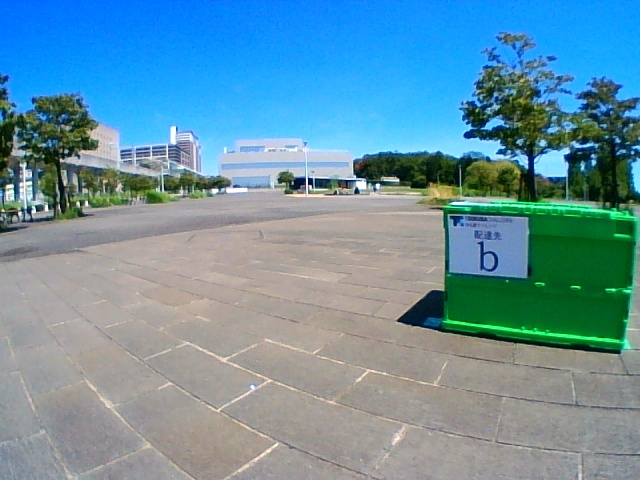green_box: (444, 204, 637, 352)
tag_b: (450, 215, 526, 276)
